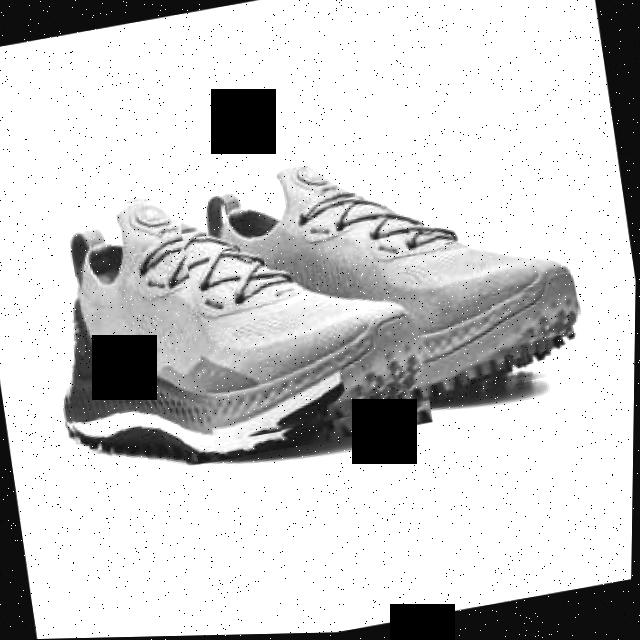shoe: (173, 123, 593, 446), (34, 151, 437, 487)
